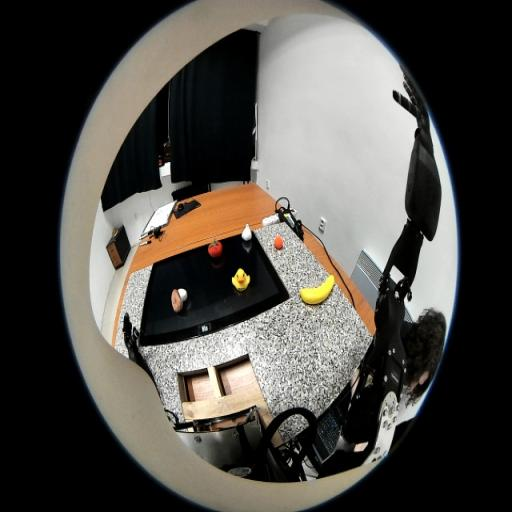Banana: (301, 274, 335, 304)
Duck: (232, 268, 250, 292)
LeftHand: (124, 333, 137, 350)
Mushroom: (172, 288, 188, 313)
Onion: (242, 223, 252, 241)
Orange: (274, 236, 282, 248)
Tomato: (208, 240, 223, 257)
